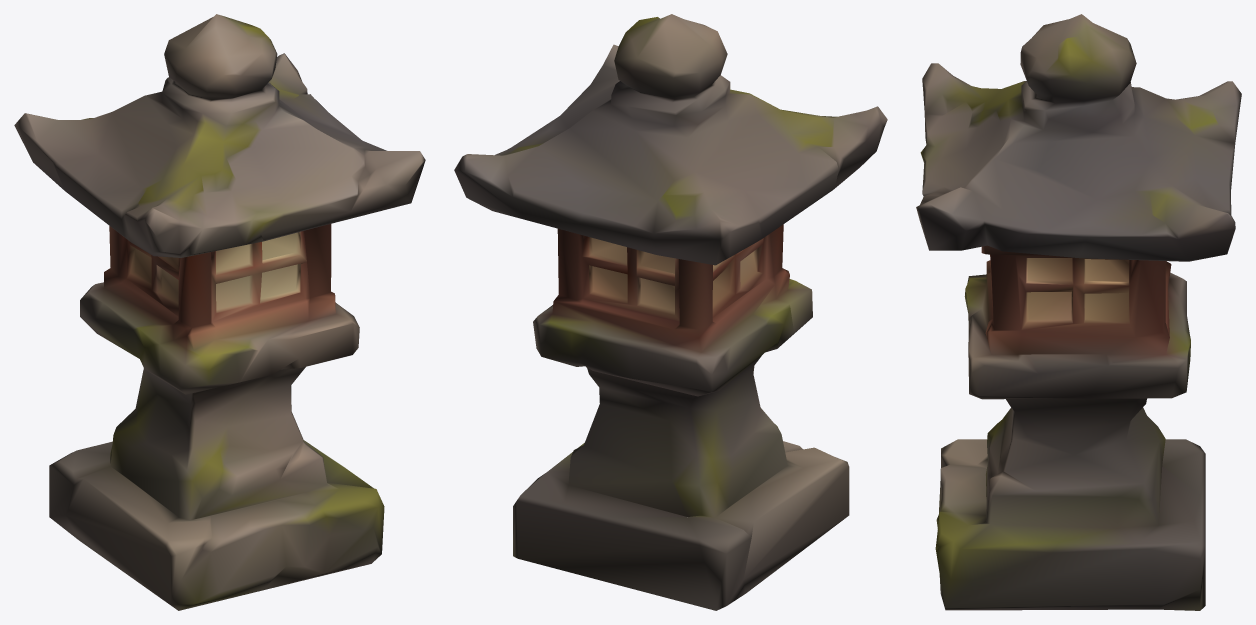
Rendered from lantern-CM86fjYk.glb.
The picture shows the model from 3 angles, left to right: view 1: azimuth 30°, elevation 25°; view 2: azimuth 150°, elevation 25°; view 3: azimuth 270°, elevation 25°; orthographic projection. The views are drawn at different scales.
Visible parts, largest first — view 1: tripo_node_923d391b-9062-4add-9735-1c64ffc64891; view 2: tripo_node_923d391b-9062-4add-9735-1c64ffc64891; view 3: tripo_node_923d391b-9062-4add-9735-1c64ffc64891.
Boxes of the visible parts, bbox=[...] form: tripo_node_923d391b-9062-4add-9735-1c64ffc64891: bbox=[14, 14, 425, 610]; tripo_node_923d391b-9062-4add-9735-1c64ffc64891: bbox=[454, 14, 887, 610]; tripo_node_923d391b-9062-4add-9735-1c64ffc64891: bbox=[916, 14, 1241, 610].
Size of the model in its own units: 0.5504 by 0.9776 by 0.5243.
